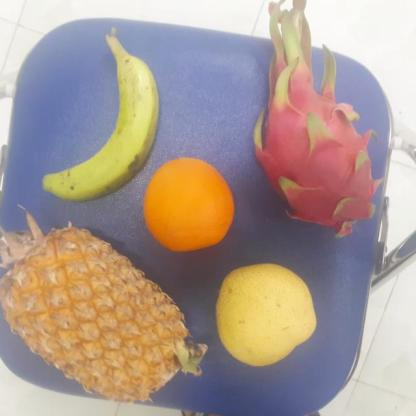banana: (50, 42, 157, 202)
orange: (140, 156, 236, 250)
pear: (212, 260, 320, 363)
pineapple: (0, 222, 199, 401)
pitaya: (247, 51, 386, 230)
